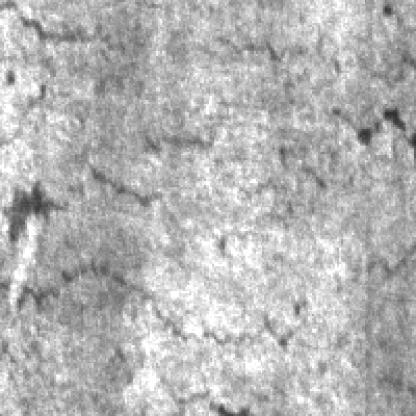crazing: (2, 187, 364, 354), (73, 74, 358, 212)
